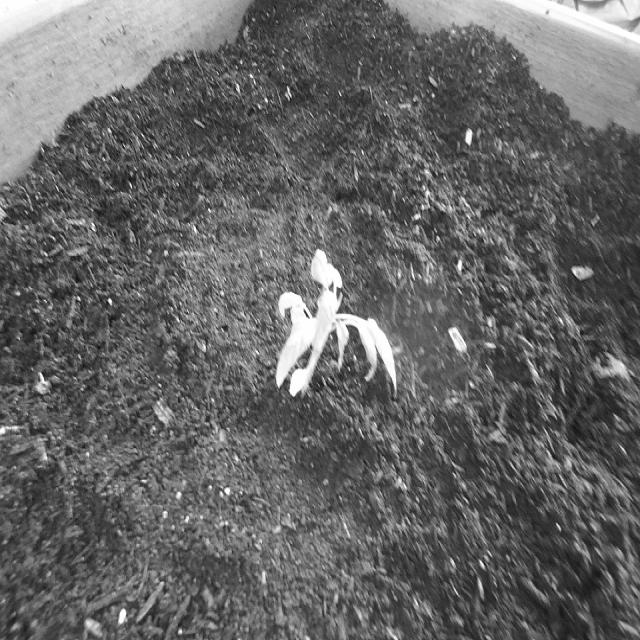Healthy: (270, 244, 400, 414)
